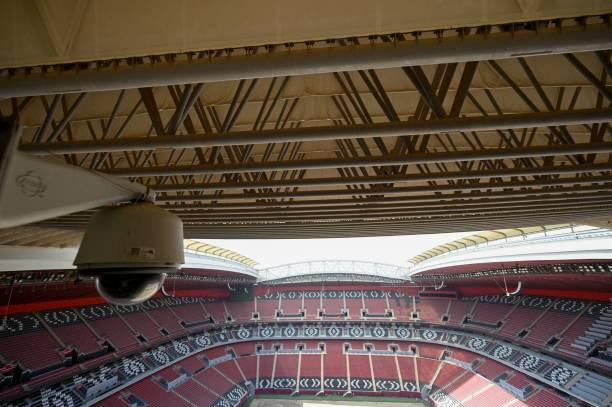camera: (60, 150, 216, 312)
